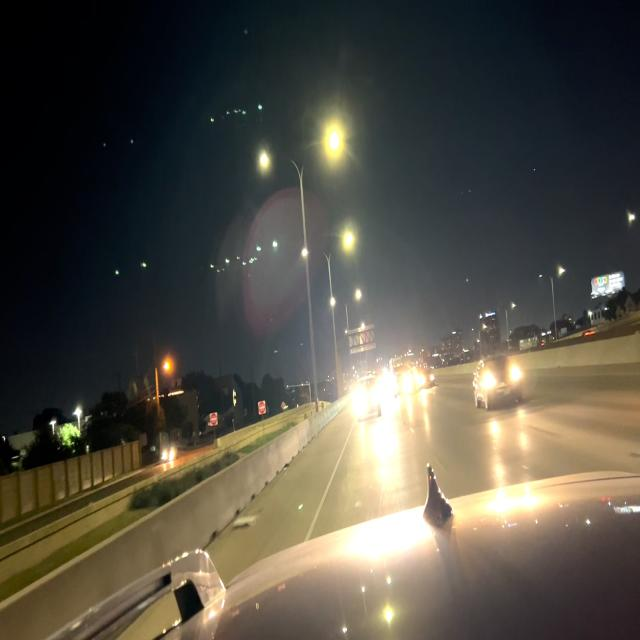back-of-sign: (349, 324, 378, 354)
